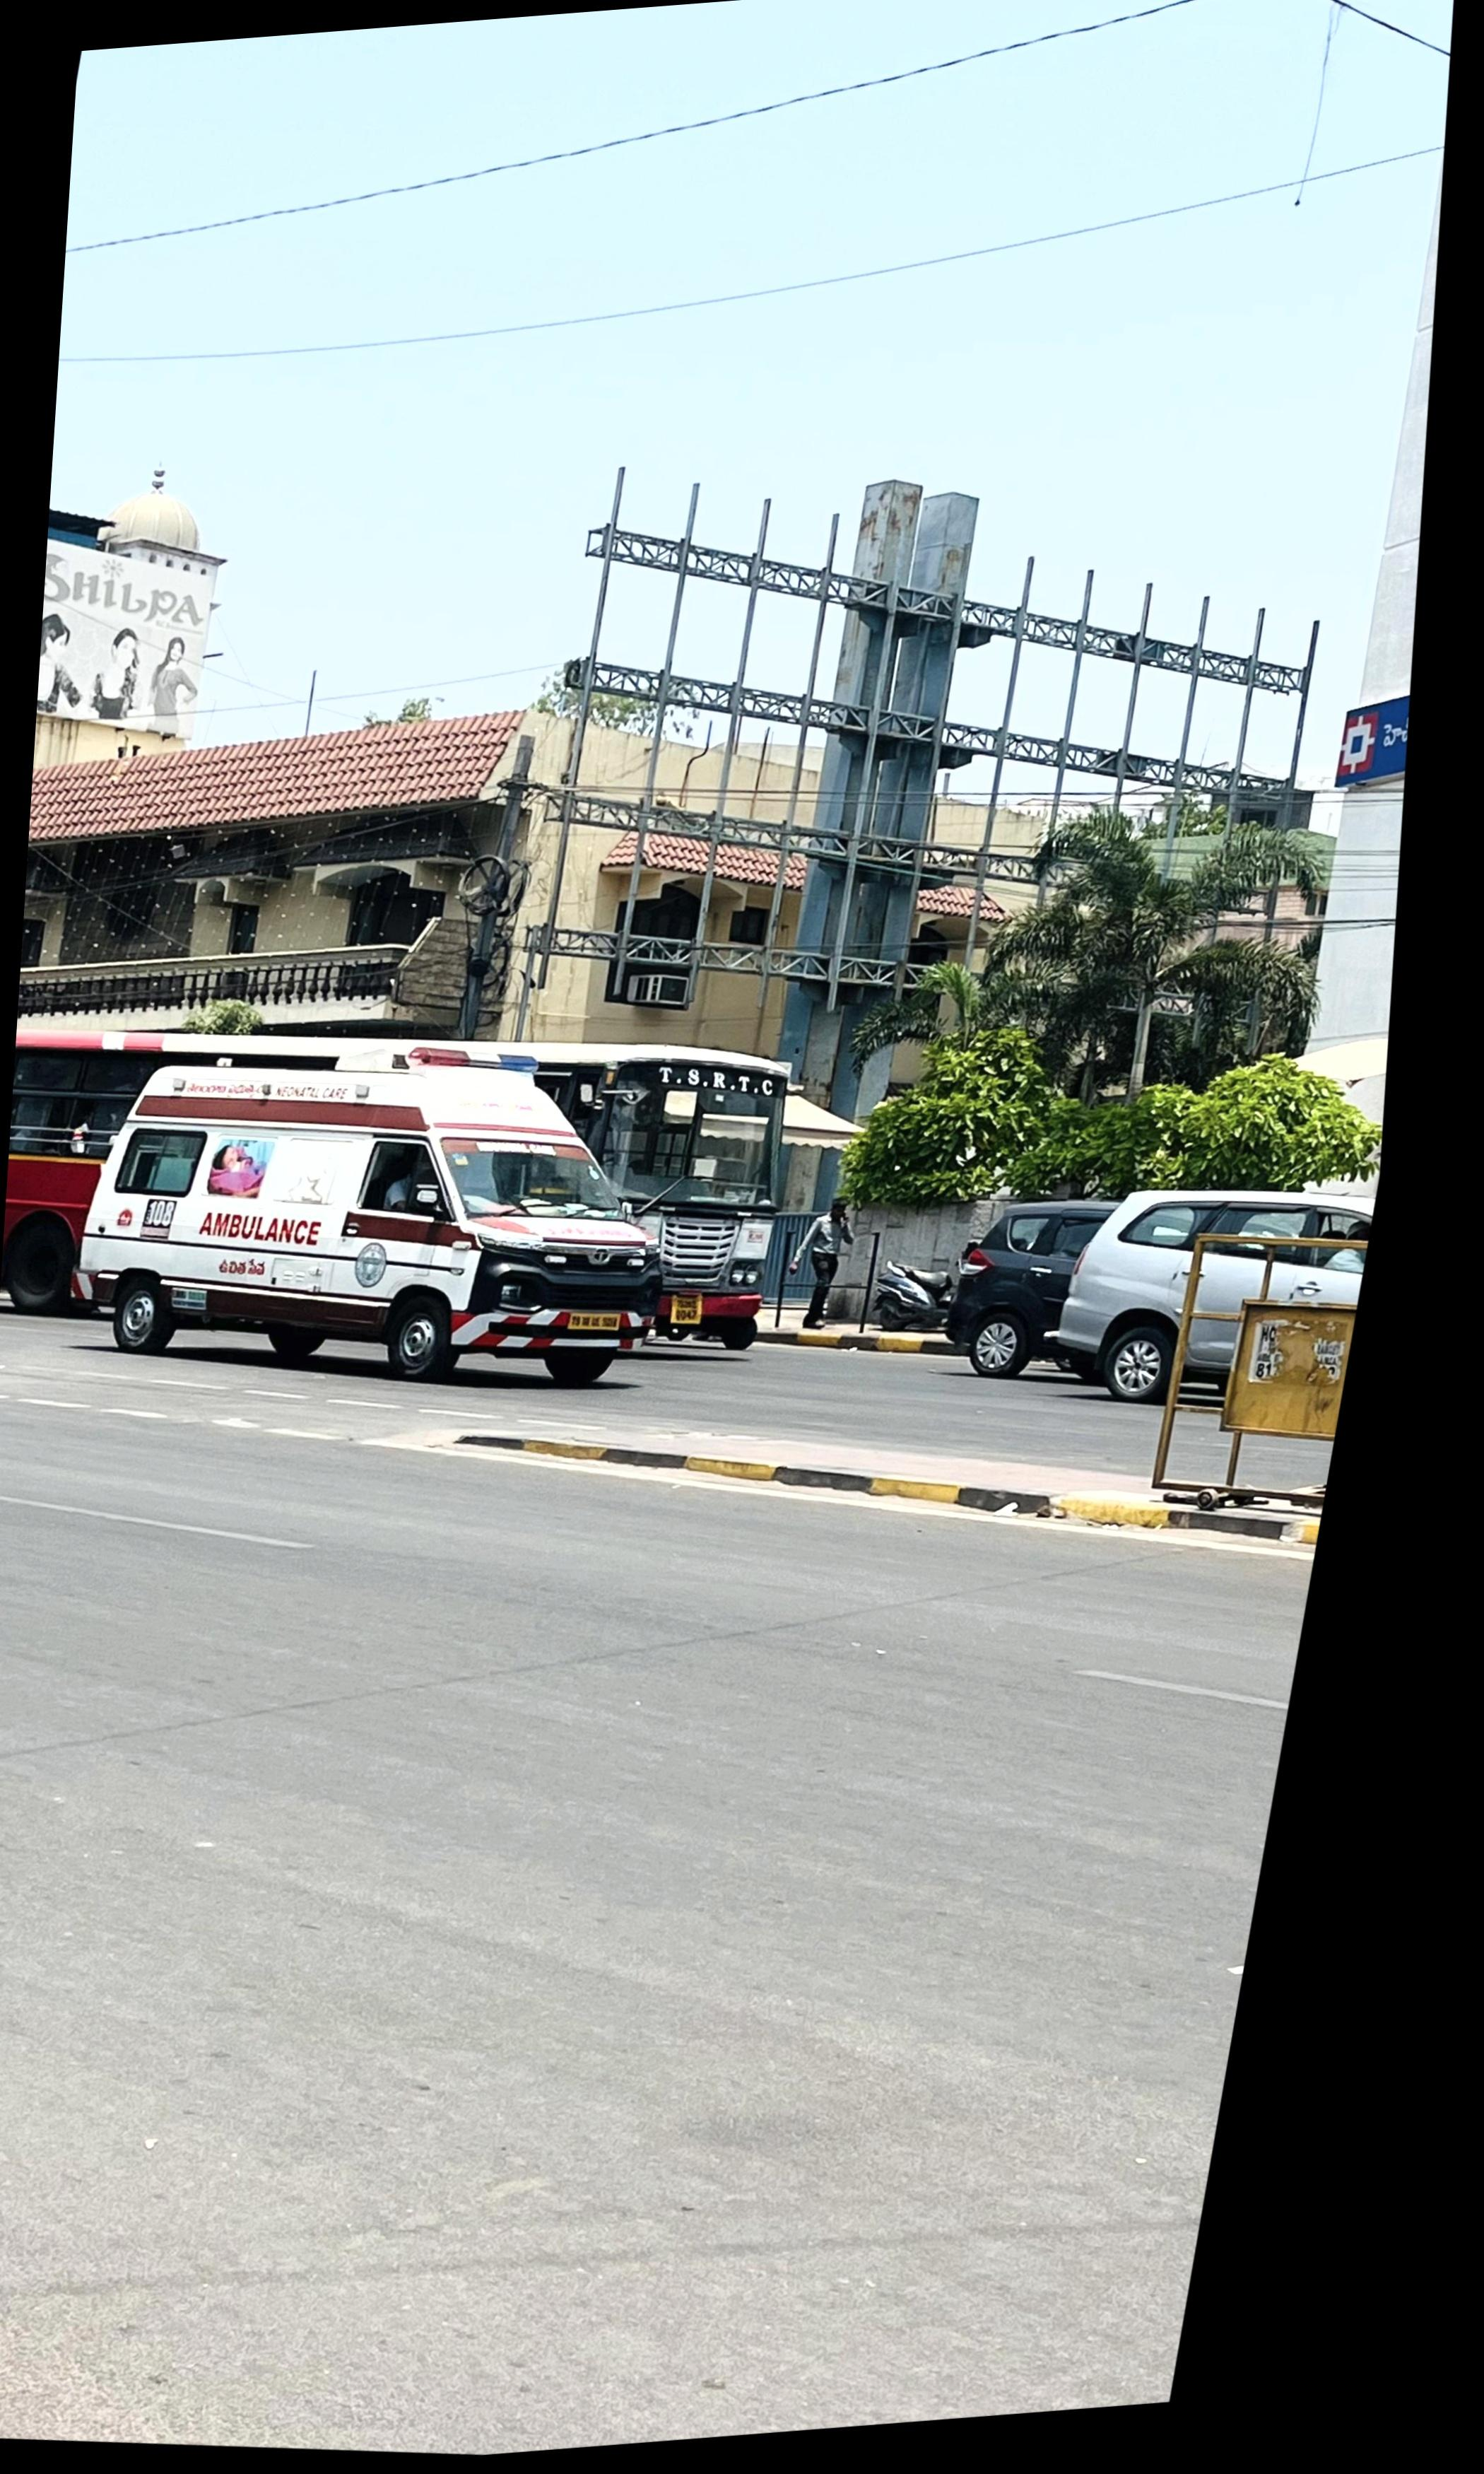ambulance: (72, 1050, 655, 1391)
